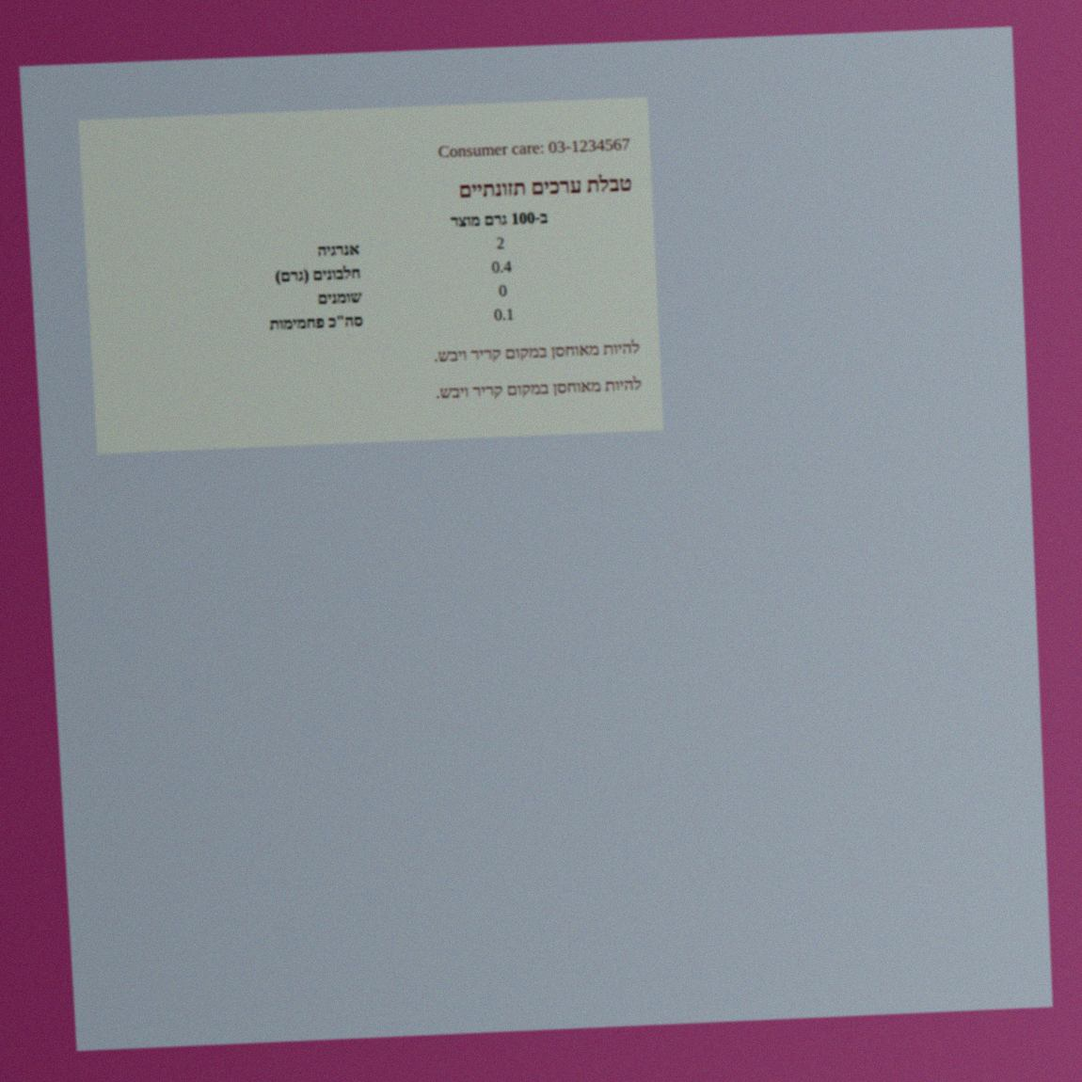carbs: (492, 304, 516, 325)
energy: (494, 232, 507, 254)
fat: (496, 280, 509, 301)
protein: (489, 256, 514, 278)
